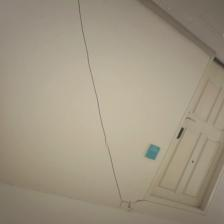Medium: (73, 10, 132, 194)
